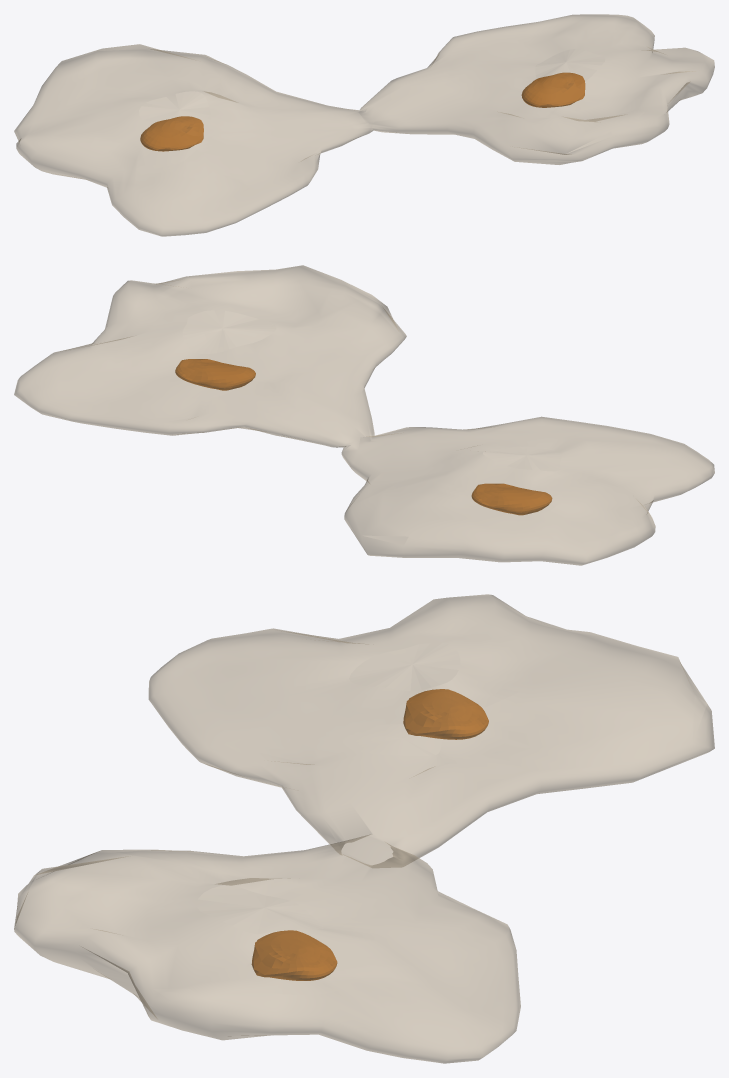
Rendered from simple binary fission in amoeba 3.gltf.
The picture shows the model from 3 angles, top to bottom: view 1: azimuth 30°, elevation 25°; view 2: azimuth 150°, elevation 25°; view 3: azimuth 270°, elevation 25°; orthographic projection. The views are drawn at different scales.
Parts seen in each view (by area): view 1: Sphere.002; view 2: Sphere.002; view 3: Sphere.002.
Part boxes in pixels (<box>): Sphere.002: <box>14,14,714,236</box>; Sphere.002: <box>14,265,714,565</box>; Sphere.002: <box>14,594,714,1063</box>.
Size of the model in its own units: 17.26 by 1.67 by 11.58.
